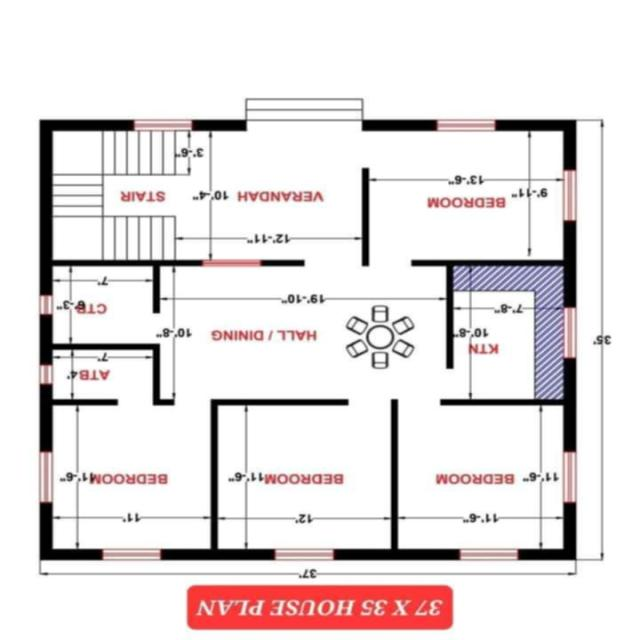column: (378, 536, 412, 566), (554, 540, 584, 568), (33, 538, 60, 566), (33, 115, 65, 138), (29, 336, 61, 358), (199, 542, 227, 566), (558, 116, 584, 141)
